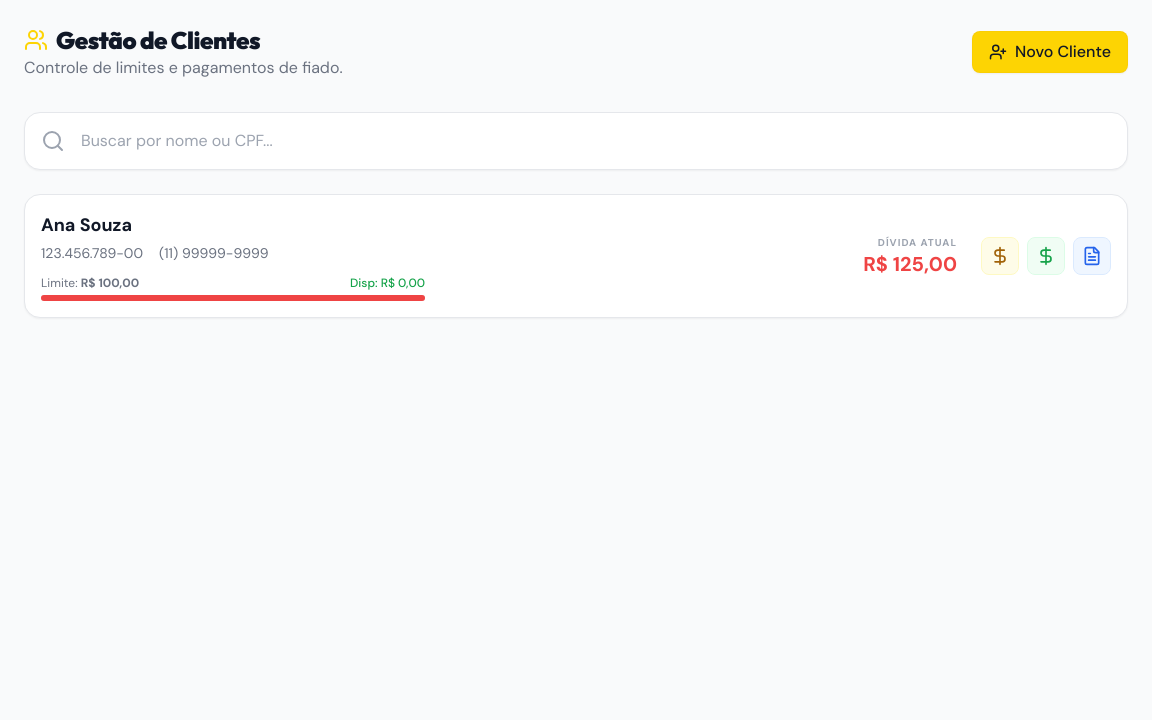
Test: Customers credit limit editing › warns when the limit is below the debt and caps available credit at zero
Click the button named "Editar limite de Ana Souza" at (1000, 256), box [981,237,1019,275]
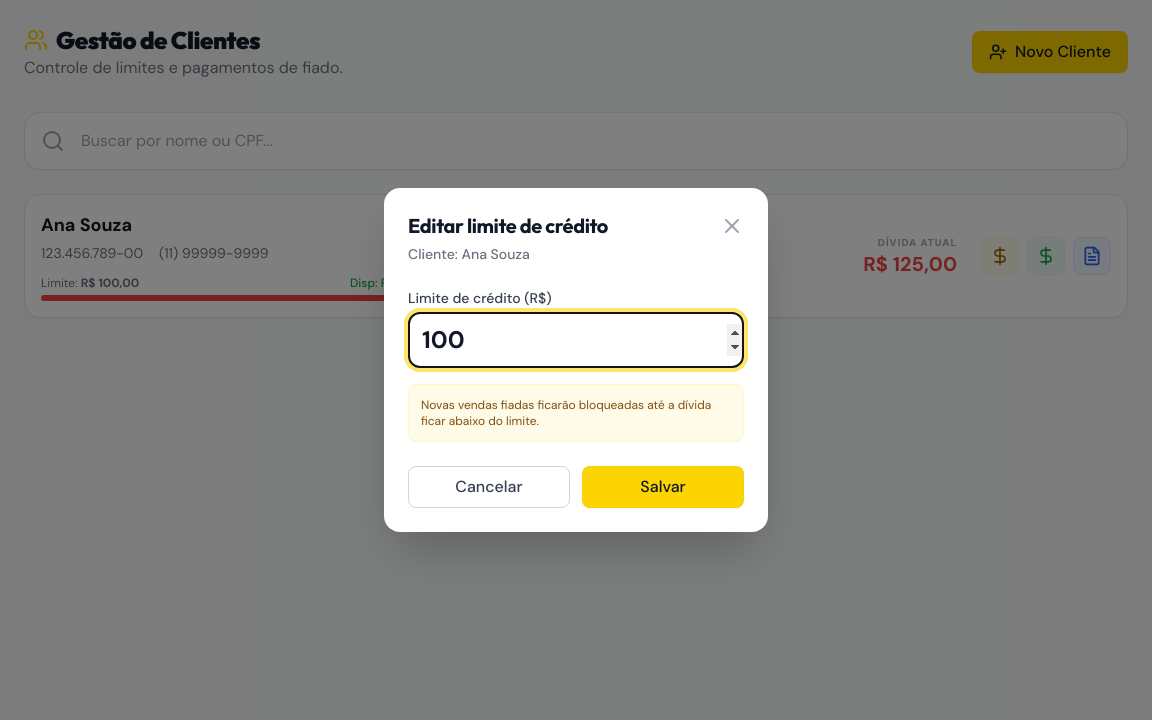
Expected: the text "Disp: R$ 0,00" is shown, [350,275,425,291]
Now the text "Novas vendas fiadas ficarão bloqueadas até a dívida ficar abaixo do limite." is shown, box [408,384,744,442]
